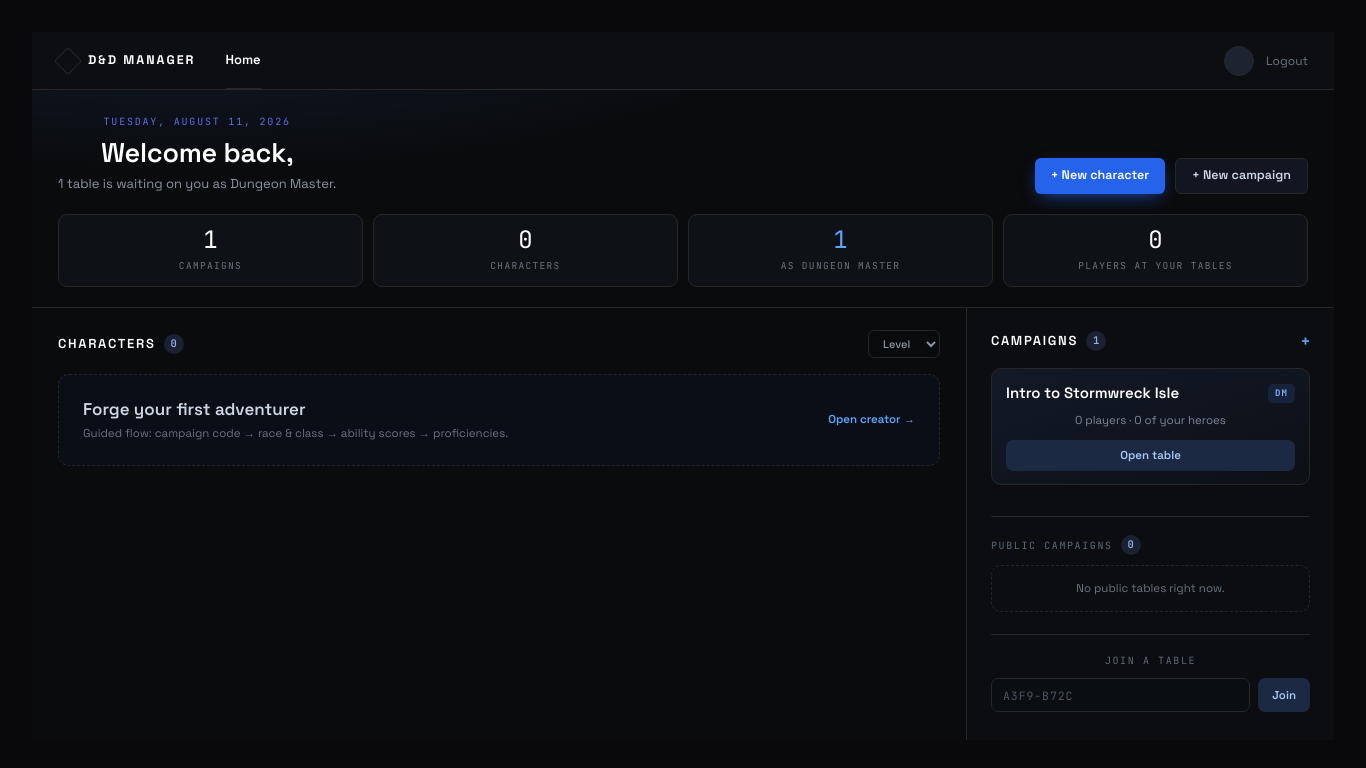
Test case: App view campaign flow › shows empty state messages when there are no players or characters
What coordinates should you click on to do the following:
click the button "Intro to Stormwreck Isle"
I would click on:
 (1093, 394)
Its box is top-left (1006, 382), bottom-right (1179, 405).
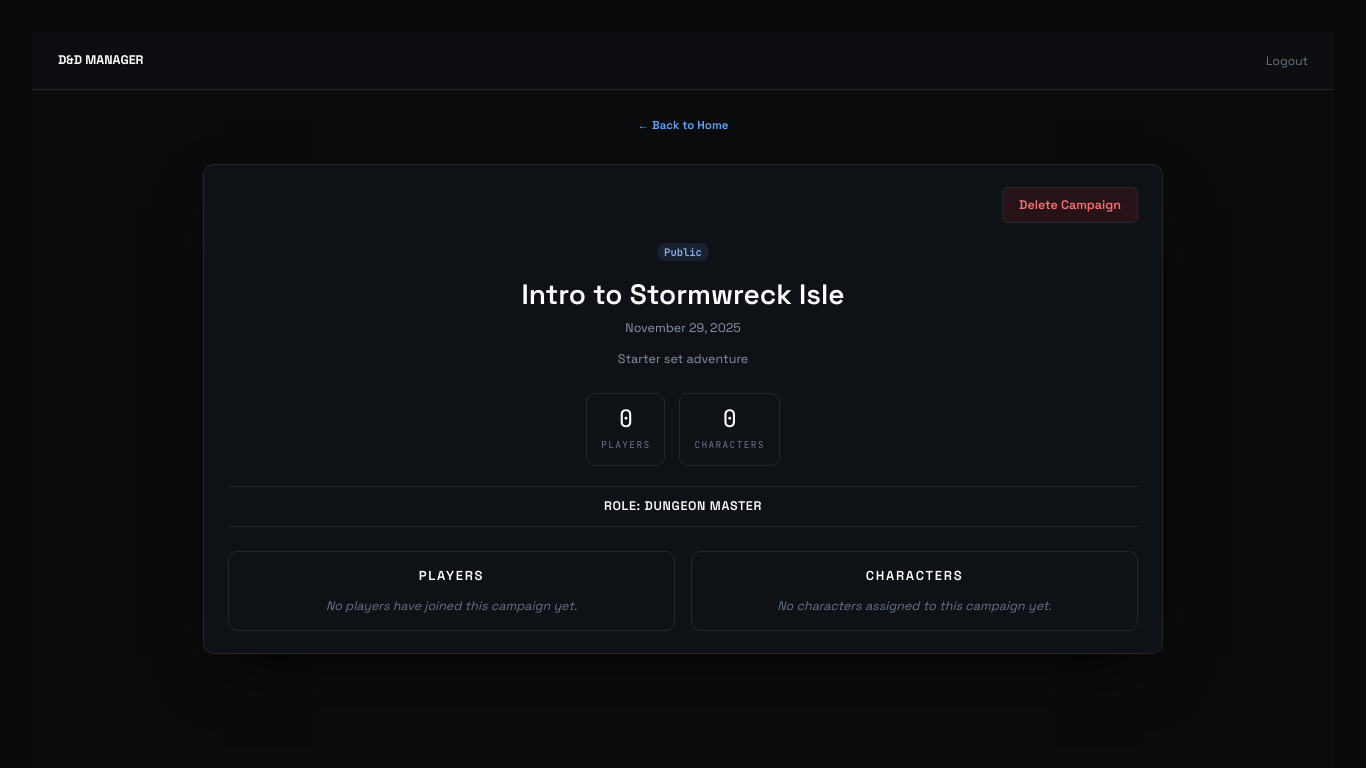
Now the text "No players have joined this campaign yet." is shown, box top-left (326, 598), bottom-right (577, 614)
Now the text "No characters assigned to this campaign yet." is shown, box top-left (777, 598), bottom-right (1052, 614)
